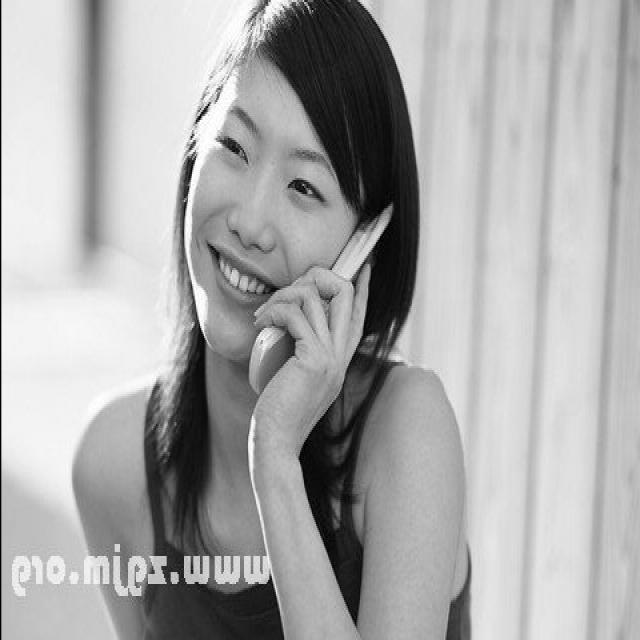phone: (234, 122, 410, 414)
